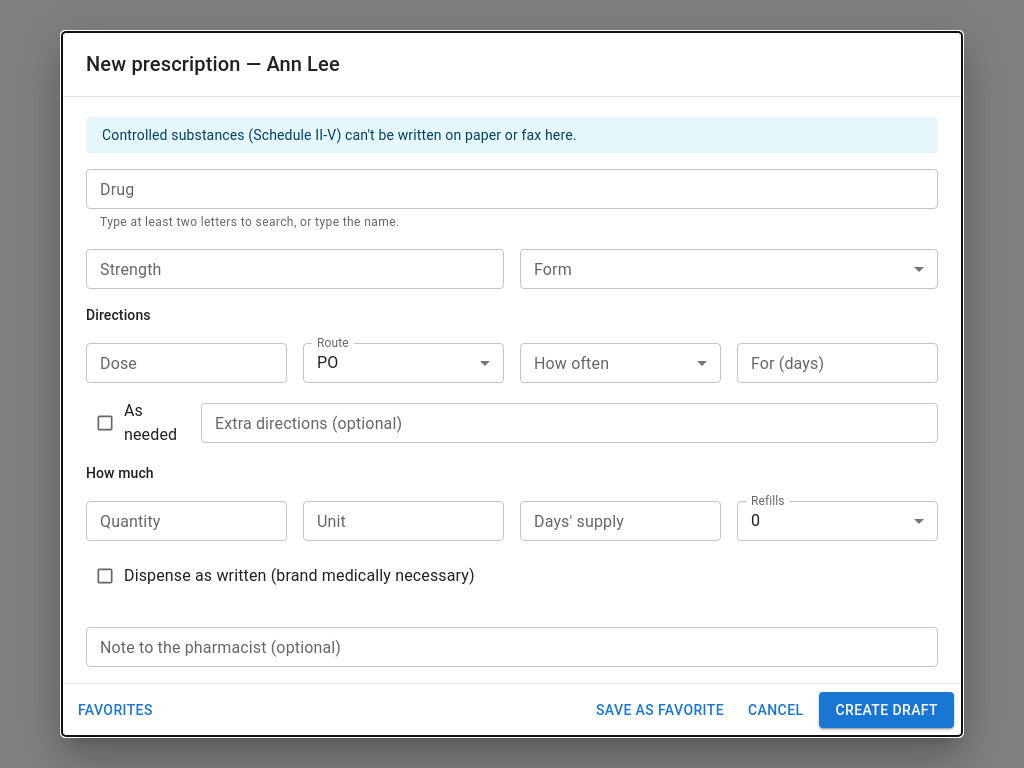
Test: writer form › needs a drug, and a doctor for a nurse's draft
Expected: the dropdown with test id "rx-drug" is shown, [92,175,929,203]
Click the button with test id "rx-form-save".
click(887, 710)  # box [820,692,954,728]
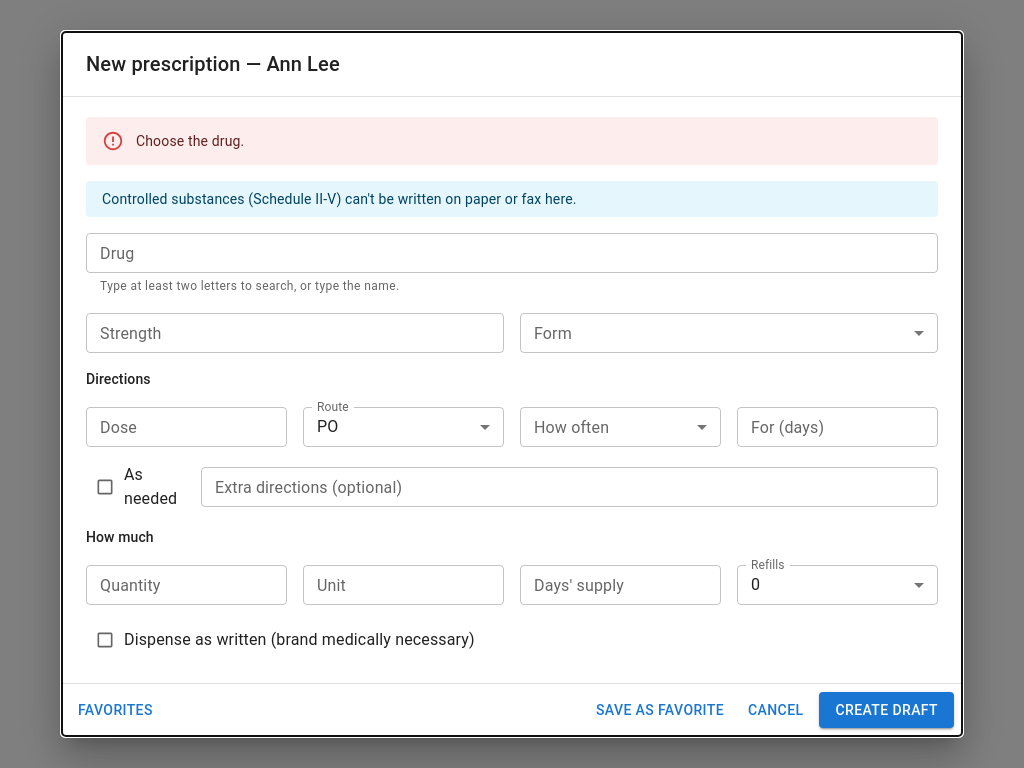
Expected: the message with test id "rx-form-error" reads "Choose the drug.", [136,133,244,149]
Type "Lisinopril" into the dropdown with test id "rx-drug".
click(510, 253); type("Lisinopril")  # box [92,239,929,267]
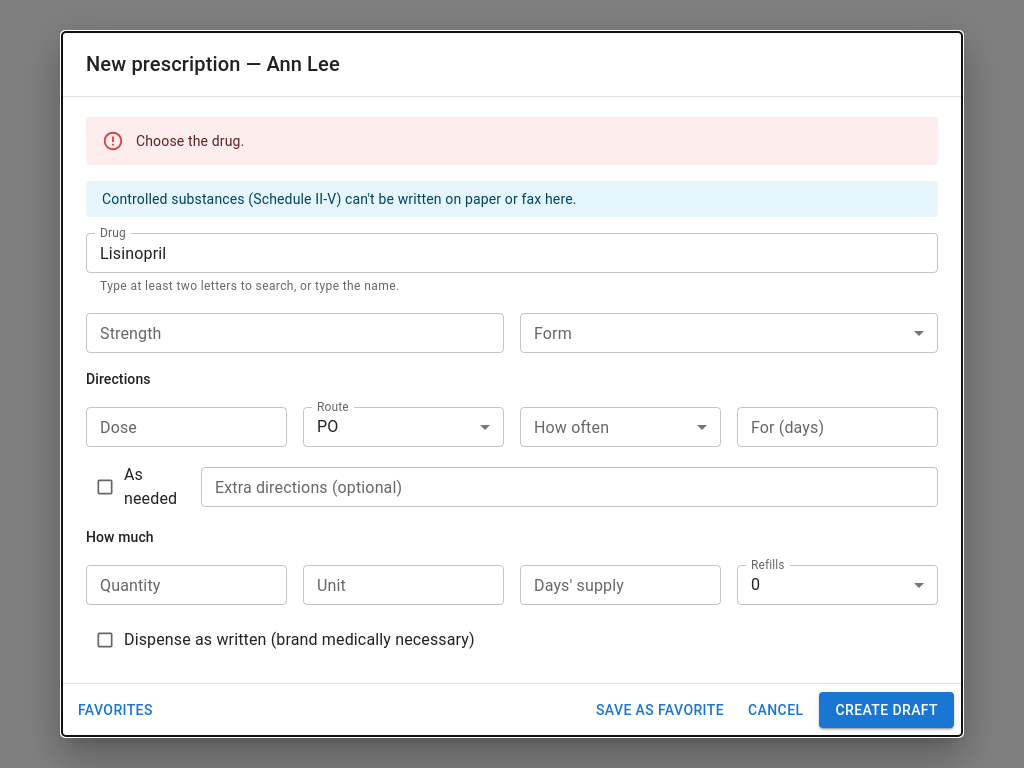
Click the button with test id "rx-form-save".
click(887, 710)  # box [820,692,954,728]
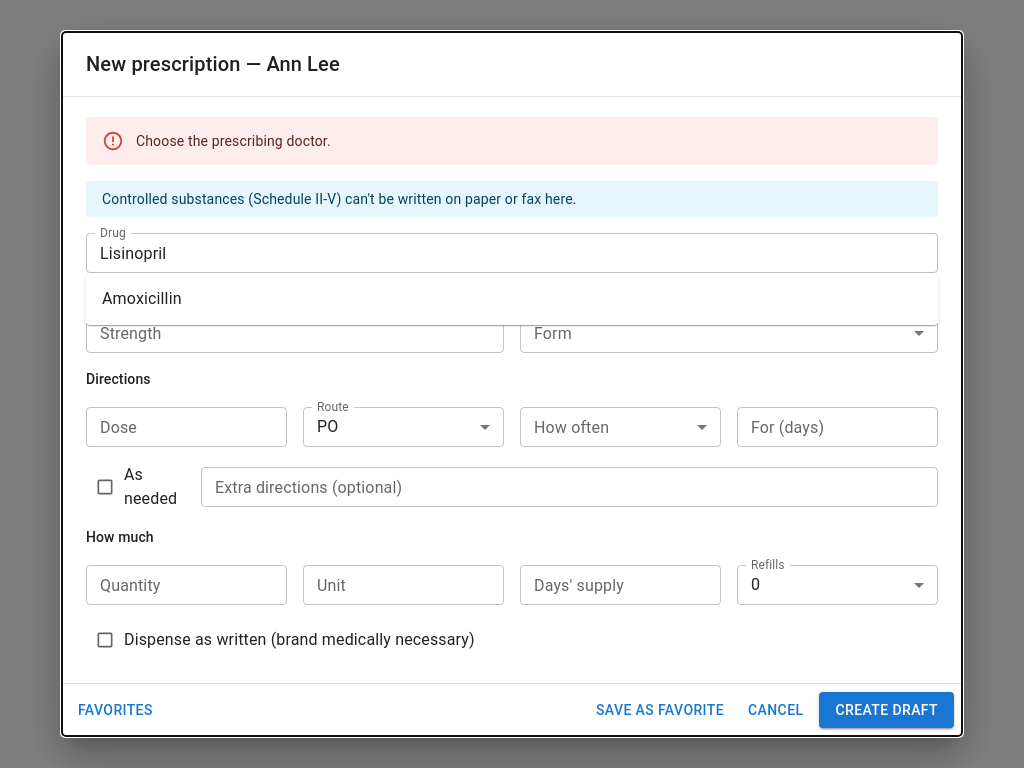
Expected: the message with test id "rx-form-error" reads "Choose the prescribing doctor.", [136,133,331,149]
